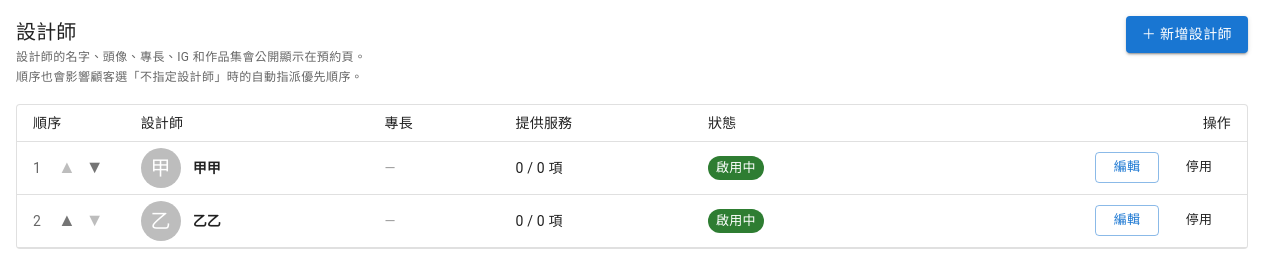
Scenario: DesignersTable › 寫入在途時，所有箭頭與停用按鈕都停用（避免交錯的 update）
The image size is (1266, 266).
Click the button named "下移 甲甲" at (95, 168), box [81,152,109,183]
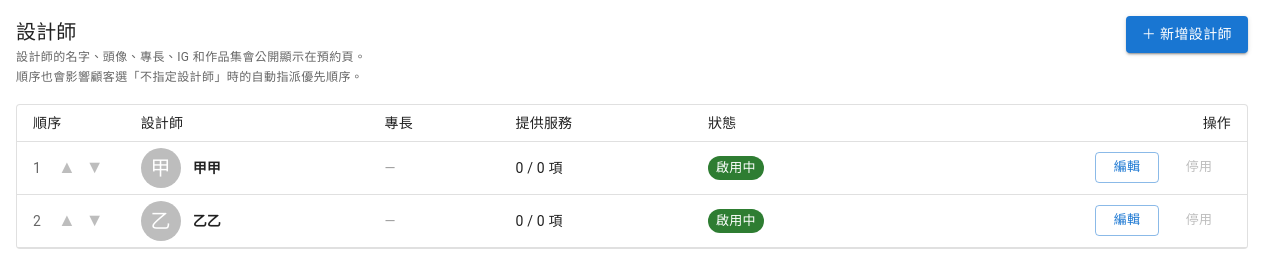
Now the button named "上移 乙乙" is disabled, box [53,205,81,236]
Now the button "停用" in the row of "甲甲" is disabled, box [1167,152,1231,183]
Now the button "停用" in the row of "乙乙" is disabled, box [1167,205,1231,236]
